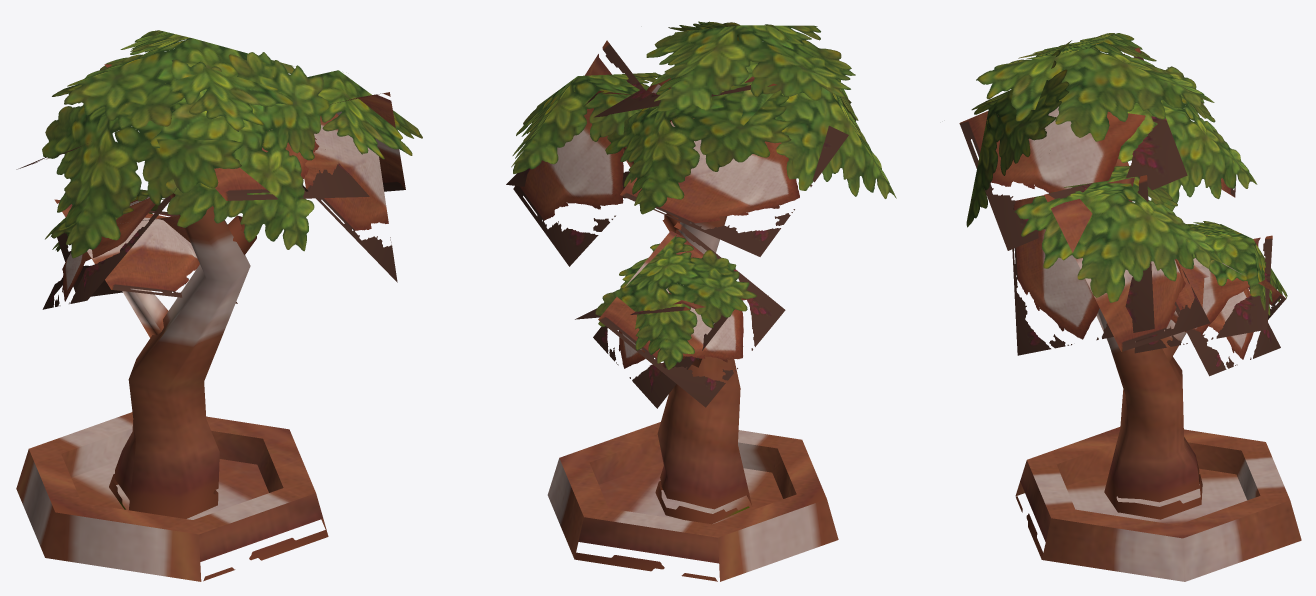
The model's file is plant_city_tree02.FBX.
3 views of the same model, side by side, from view 1: azimuth 30°, elevation 25°; view 2: azimuth 150°, elevation 25°; view 3: azimuth 270°, elevation 25° (orthographic). The views are drawn at different scales.
Parts seen in each view (by area): view 1: plant_city_tree02; view 2: plant_city_tree02; view 3: plant_city_tree02.
Part boxes in pixels (x1,y1,x2,y2): plant_city_tree02: (16, 30, 422, 581); plant_city_tree02: (506, 21, 896, 581); plant_city_tree02: (959, 33, 1301, 581).
Bounding box in the file's own units: 3.36 × 2.76 × 4.07.
